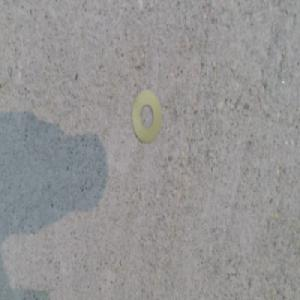Washer: (131, 90, 161, 148)
